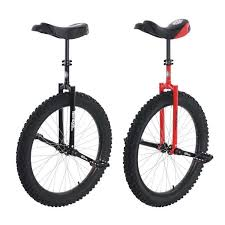seat: (26, 18, 96, 41), (131, 16, 197, 40)
wheel: (11, 83, 119, 209), (122, 90, 221, 210)
